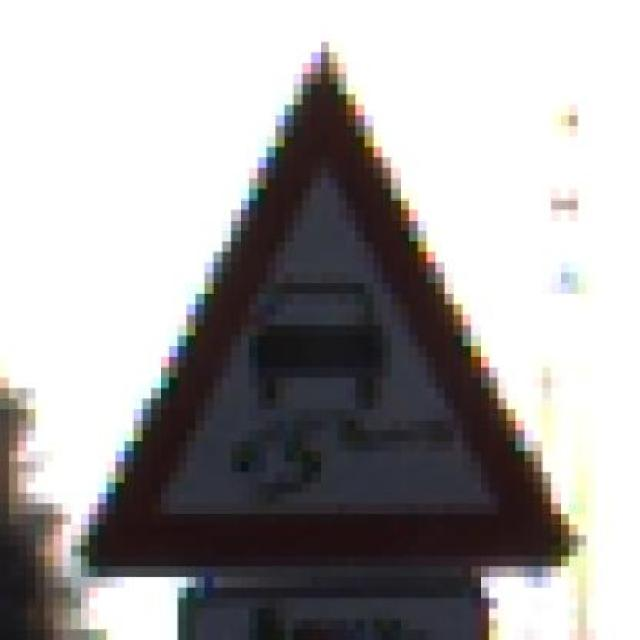Slippery Road Ahead: (70, 41, 604, 577)
